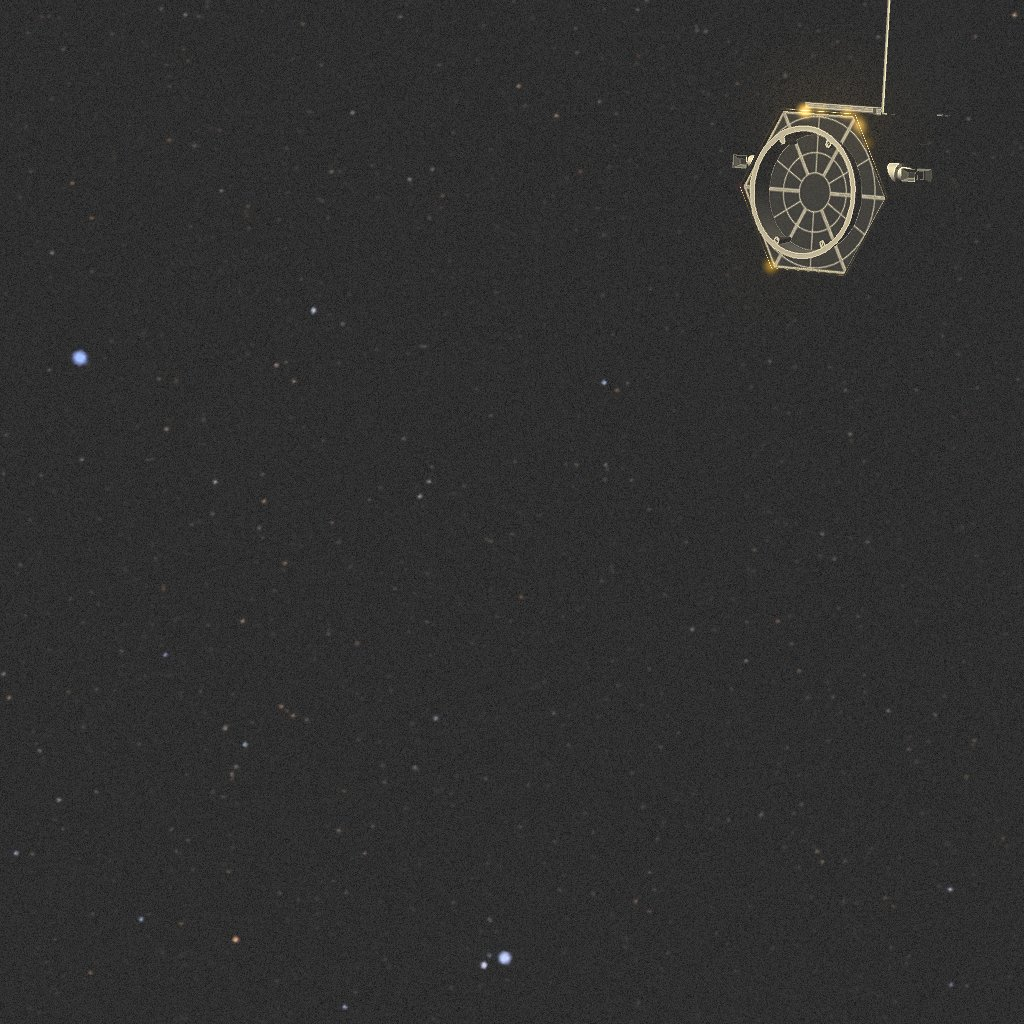earth_observation_sat_1: (733, 0, 972, 277)
